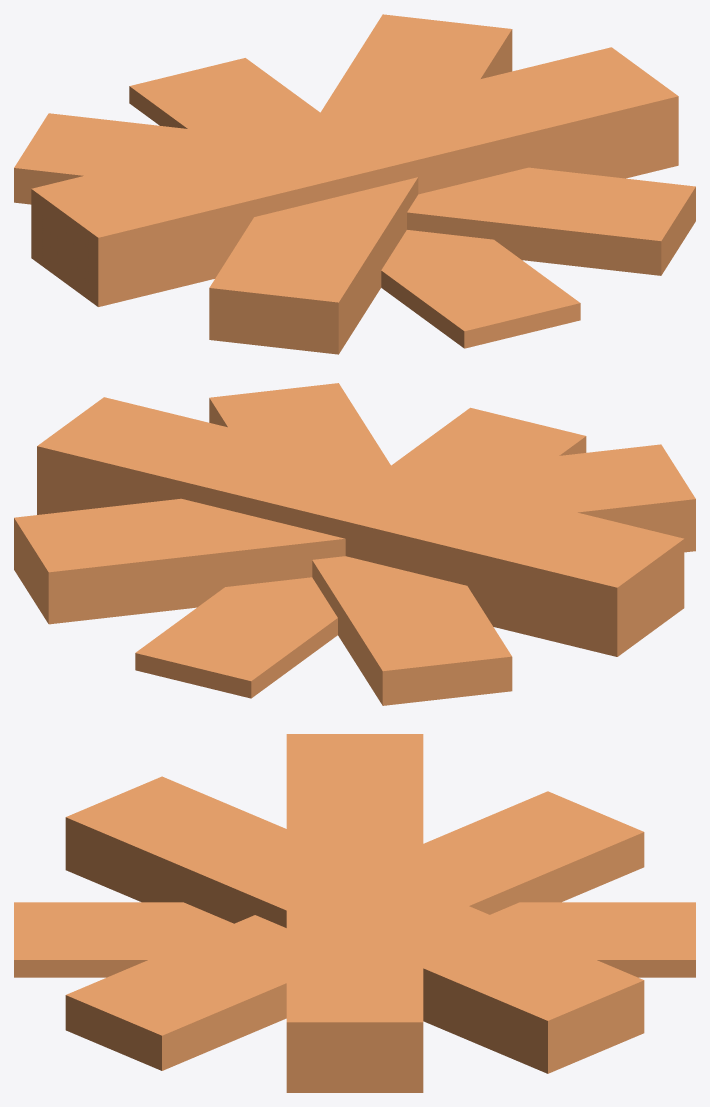
The model's file is campfire_large.obj.
The picture shows the model from 3 angles, top to bottom: view 1: azimuth 30°, elevation 25°; view 2: azimuth 150°, elevation 25°; view 3: azimuth 270°, elevation 25°; orthographic projection.
Visible parts, largest first — view 1: campfire_large; view 2: campfire_large; view 3: campfire_large.
Boxes of the visible parts, <box> form: campfire_large: <box>14,14,695,354</box>; campfire_large: <box>14,383,695,705</box>; campfire_large: <box>14,734,695,1092</box>.
Bounding box in the file's own units: 3.5 × 0.4 × 3.5.
